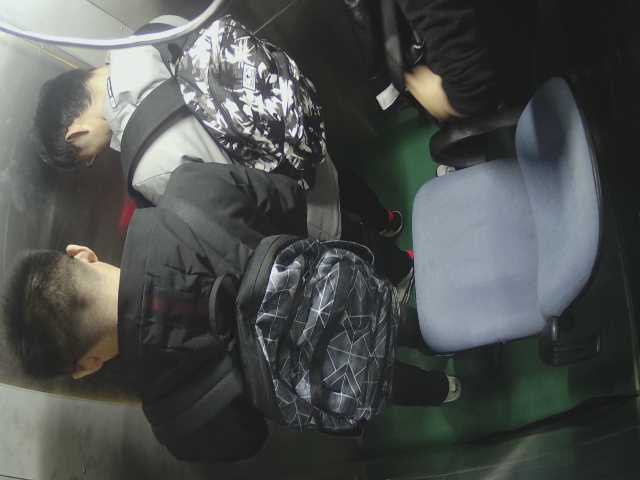bag: (209, 217, 408, 439), (166, 13, 330, 195)
chair: (399, 95, 615, 382)
person: (4, 216, 423, 411), (23, 10, 366, 201)
